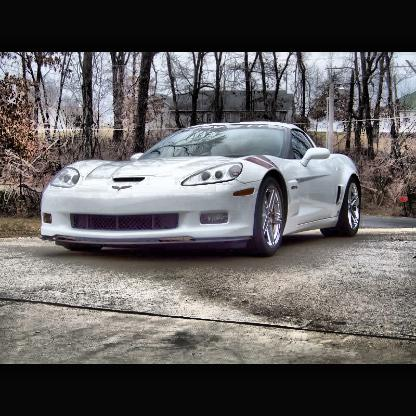Chevrolet Corvette Ron Fellows Edition Z06 2007: (40, 120, 366, 258)
